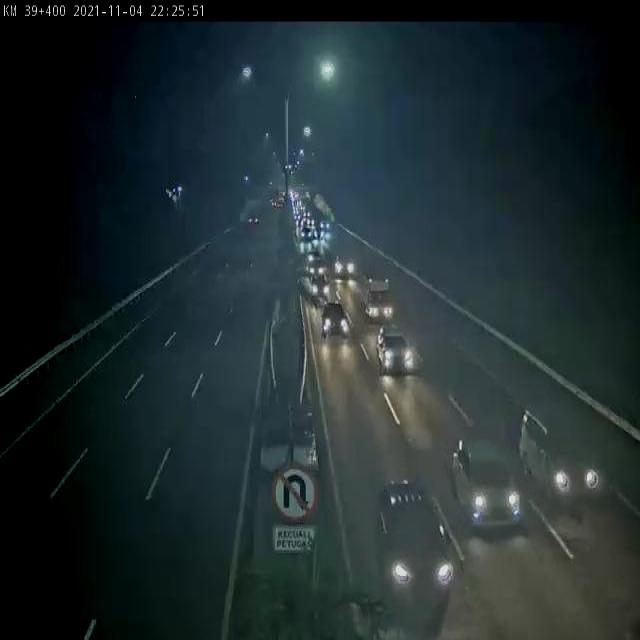Car: (372, 478, 457, 604), (520, 408, 604, 502), (452, 434, 523, 532), (375, 324, 414, 374), (320, 300, 351, 338), (310, 272, 334, 300), (335, 254, 354, 278), (306, 258, 328, 278), (299, 227, 313, 240), (247, 216, 260, 226)
Truck: (360, 273, 395, 325)
